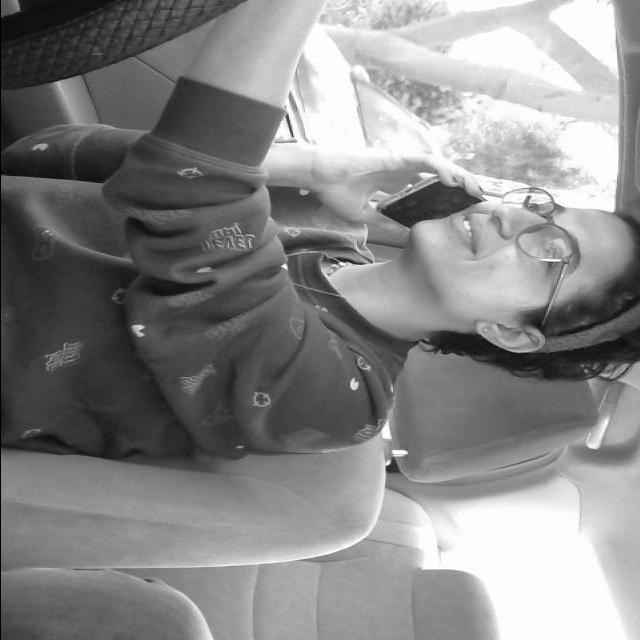mobile use: (372, 164, 486, 227)
